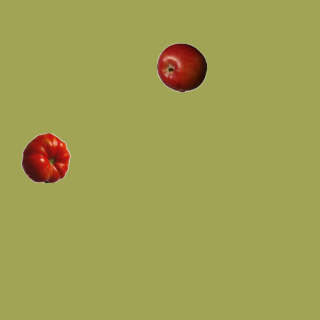Apple Braeburn: (156, 42, 206, 92)
Tomato 3: (20, 132, 70, 182)
